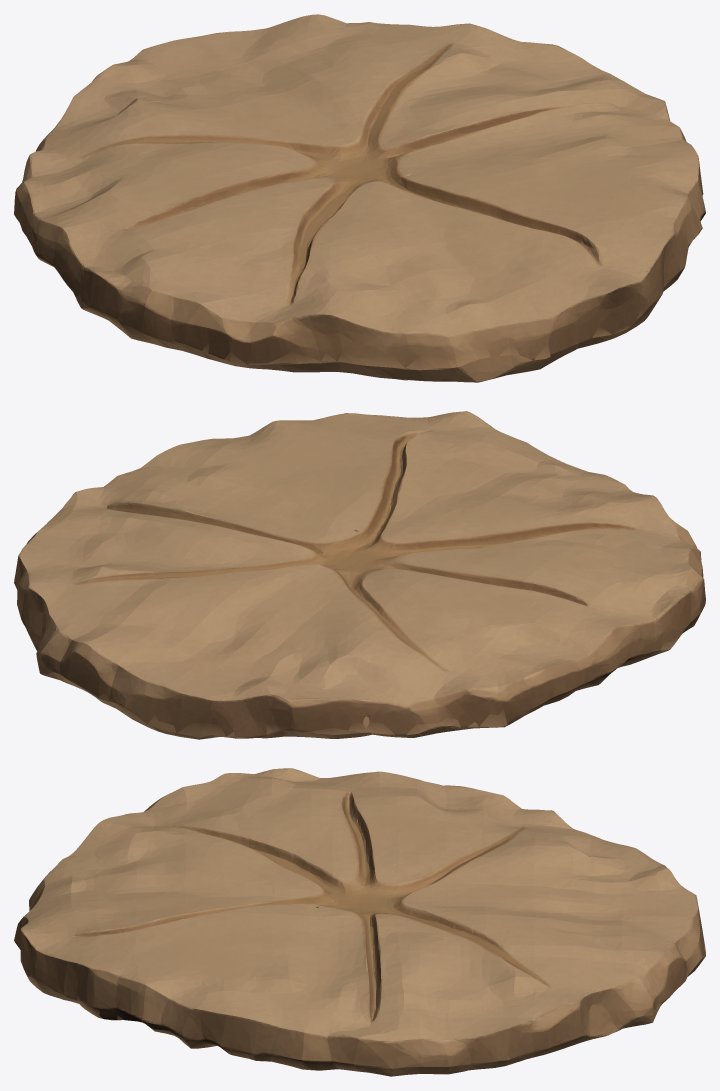
The picture shows the model from 3 angles, top to bottom: view 1: azimuth 30°, elevation 25°; view 2: azimuth 150°, elevation 25°; view 3: azimuth 270°, elevation 25°; orthographic projection. The views are drawn at different scales.
Parts seen in each view (by area): view 1: world; view 2: world; view 3: world.
Part boxes in pixels (x1,y1,x2,y2): world: (14,14,705,382); world: (14,411,705,739); world: (14,768,705,1076).
Size of the model in its own units: 0.9215 by 0.1082 by 0.9916.
Materials: 2 (1 with a texture image).
